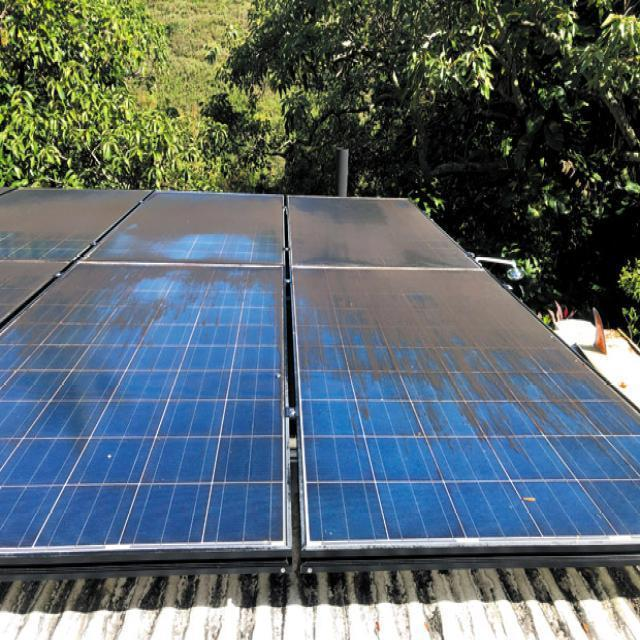Anomaly Solar Panel: (291, 266, 640, 540), (1, 262, 286, 550), (289, 194, 484, 270), (80, 192, 284, 263), (1, 188, 153, 261), (0, 260, 70, 325)
Surface Contaminant: (289, 265, 639, 476), (0, 262, 283, 419), (80, 190, 283, 263), (289, 197, 481, 268), (0, 187, 152, 246), (0, 259, 70, 325)
